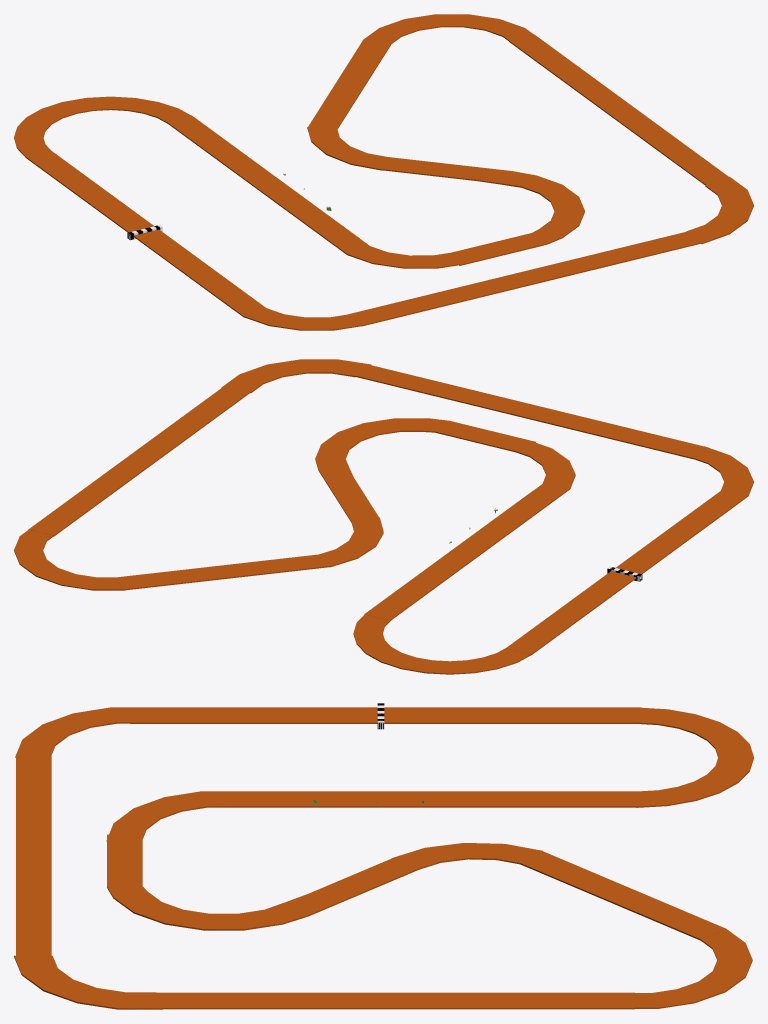
3 renders of one model, top to bottom at view 1: azimuth 30°, elevation 25°; view 2: azimuth 150°, elevation 25°; view 3: azimuth 270°, elevation 25°, orthographic. The views are drawn at different scales.
Parts seen in each view (by area): view 1: course002, course, course003, course005, Tube002, Tube013, course008, Tube008, Tube010, Tube005, Tube004, Tube006 (+2 smaller); view 2: course002, course, course003, course005, Tube002, course008, Tube013, Tube008, Tube005, Tube010, Tube004, Tube006 (+2 smaller); view 3: course, course003, course002, course005, Tube002, Tube013, course008, Tube008, Tube005, Tube010, Tube004, Tube006 (+2 smaller).
Part boxes in pixels (<box>): course002: <box>347,229,709,326</box>; course: <box>509,34,733,186</box>; course003: <box>25,150,254,310</box>; course005: <box>167,115,359,242</box>; Tube002: <box>14,96,190,158</box>; Tube013: <box>471,171,584,244</box>; course008: <box>307,39,391,128</box>; Tube008: <box>364,14,533,43</box>; Tube010: <box>330,237,469,268</box>; Tube005: <box>686,176,753,243</box>; Tube004: <box>227,299,365,330</box>; Tube006: <box>307,127,384,170</box>; course002: <box>347,363,707,459</box>; course: <box>28,383,252,536</box>; course003: <box>506,499,740,655</box>; course005: <box>364,492,553,620</box>; Tube002: <box>353,614,532,674</box>; course008: <box>116,554,332,590</box>; Tube013: <box>315,418,449,483</box>; Tube008: <box>14,529,125,590</box>; Tube005: <box>221,359,371,393</box>; Tube010: <box>512,439,575,500</box>; Tube004: <box>694,446,753,506</box>; Tube006: <box>317,517,383,567</box>; course: <box>149,992,634,1009</box>; course003: <box>130,707,640,723</box>; course002: <box>16,754,51,960</box>; course005: <box>231,791,641,807</box>; Tube002: <box>636,707,753,807</box>; Tube013: <box>107,886,330,930</box>; course008: <box>520,850,726,940</box>; Tube008: <box>635,929,752,1008</box>; Tube005: <box>14,955,162,1009</box>; Tube010: <box>106,791,241,841</box>; Tube004: <box>15,707,150,757</box>; Tube006: <box>392,843,542,869</box>.
Size of the model in its own units: 201 by 3.9 by 207.
3 materials, 3 textured.
